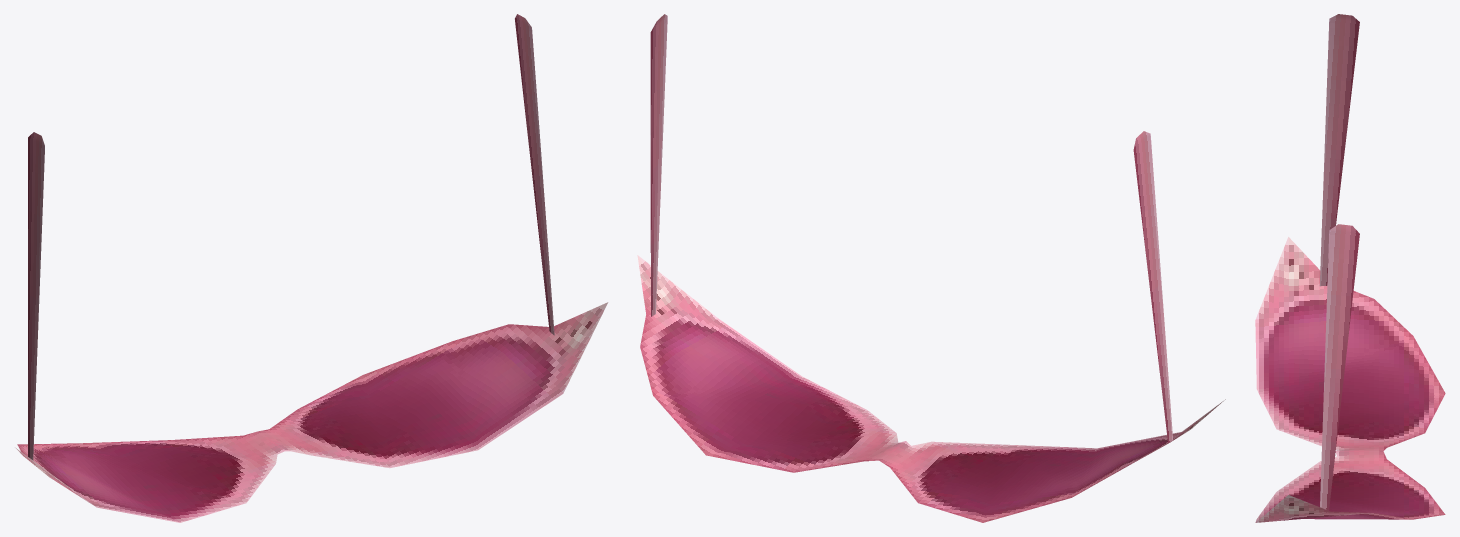
The model's file is tt_m_chr_avt_acc_msk_catEyeGlasses.glb.
3 renders of one model, left to right at view 1: azimuth 30°, elevation 25°; view 2: azimuth 150°, elevation 25°; view 3: azimuth 270°, elevation 25°, orthographic. The views are drawn at different scales.
Parts seen in each view (by area): view 1: catEyeGlasses; view 2: catEyeGlasses; view 3: catEyeGlasses.
Part boxes in pixels (<box>): catEyeGlasses: <box>15,14,608,522</box>; catEyeGlasses: <box>637,14,1225,522</box>; catEyeGlasses: <box>1255,14,1445,522</box>.
Size of the model in its own units: 4.35 by 2.68 by 1.35.
1 material, 1 textured.
